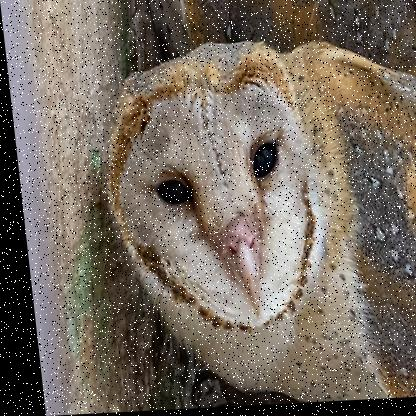Burung: (89, 39, 415, 412)
